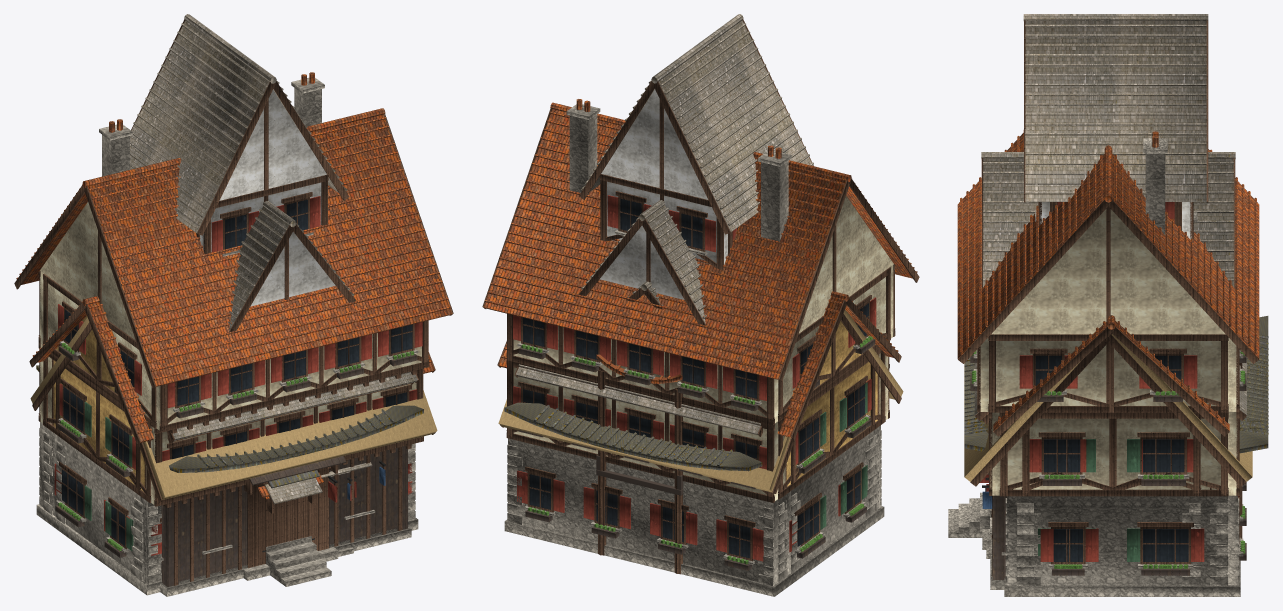
The model's file is SettlementHouses.gltf.
3 views of the same model, side by side, from view 1: azimuth 30°, elevation 25°; view 2: azimuth 150°, elevation 25°; view 3: azimuth 270°, elevation 25° (orthographic). The views are drawn at different scales.
Parts seen in each view (by area): view 1: inn, barn, bellTower, longHall, teaHall, tallTownhouseWhite, millHouse, tallTownhouse; view 2: inn, bellTower, longHall, teaHall, tallTownhouse, barn, perchStand, millHouse, tallTownhouseWhite; view 3: inn, bellTower, longHall, tallTownhouse, barn, teaHall, tallTownhouseWhite, millHouse.
Boxes of the visible parts, <box> form: inn: <box>14,72,453,595</box>; barn: <box>30,317,437,596</box>; bellTower: <box>130,14,349,256</box>; longHall: <box>29,296,435,583</box>; teaHall: <box>36,365,423,586</box>; tallTownhouseWhite: <box>228,201,356,476</box>; millHouse: <box>166,371,418,584</box>; tallTownhouse: <box>228,201,356,497</box>; inn: <box>482,99,919,596</box>; bellTower: <box>579,14,813,269</box>; longHall: <box>497,291,901,577</box>; teaHall: <box>504,364,889,471</box>; tallTownhouse: <box>579,200,706,325</box>; barn: <box>498,310,903,493</box>; perchStand: <box>596,354,683,574</box>; millHouse: <box>514,364,762,436</box>; tallTownhouseWhite: <box>581,200,706,322</box>; inn: <box>957,130,1259,596</box>; bellTower: <box>1023,14,1208,242</box>; longHall: <box>993,315,1229,596</box>; tallTownhouse: <box>981,152,1235,288</box>; barn: <box>964,334,1252,589</box>; teaHall: <box>948,316,1268,537</box>; tallTownhouseWhite: <box>983,162,1233,279</box>; millHouse: <box>974,357,1246,537</box>.
Bounding box in the file's own units: 13.21 × 20.2 × 11.46.
19 materials, 19 textured.
